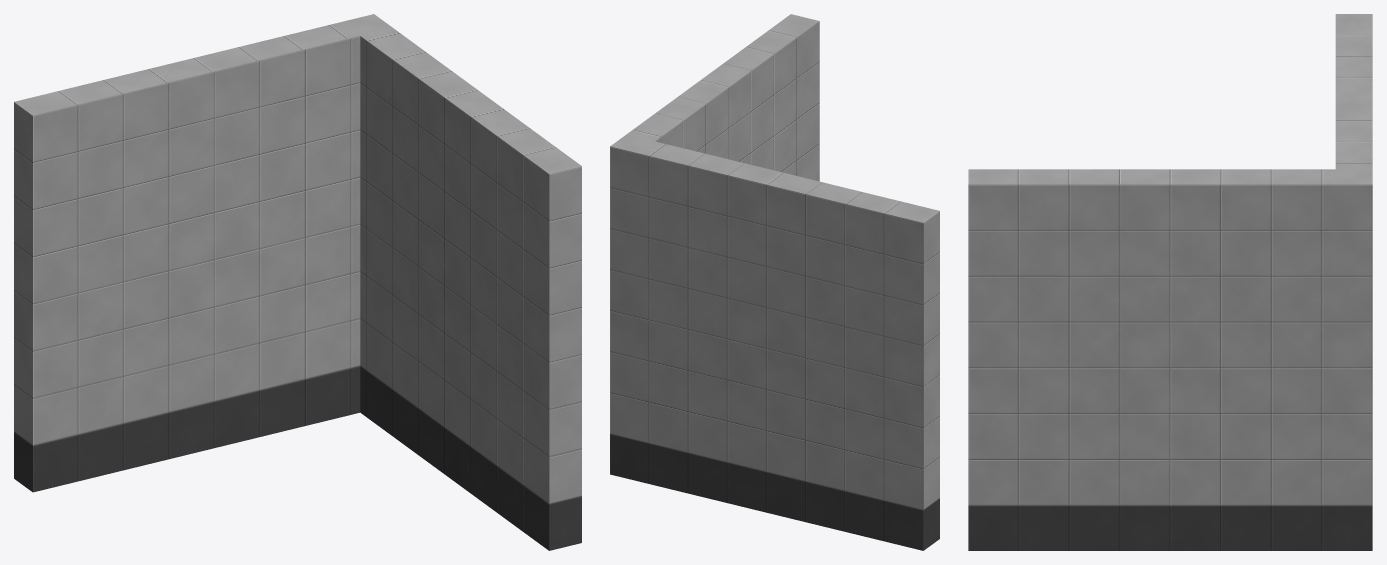
Rendered from wall bathroom big corner.FBX.
3 views of the same model, side by side, from view 1: azimuth 30°, elevation 25°; view 2: azimuth 150°, elevation 25°; view 3: azimuth 270°, elevation 25° (orthographic). The views are drawn at different scales.
Visible parts, largest first — view 1: wall bathroom big corner; view 2: wall bathroom big corner; view 3: wall bathroom big corner.
Boxes of the visible parts, x1,y1,x2,y2 form: wall bathroom big corner: (14, 14, 581, 550); wall bathroom big corner: (610, 14, 939, 550); wall bathroom big corner: (968, 14, 1372, 550).
Size of the model in its own units: 110 by 110 by 110.
